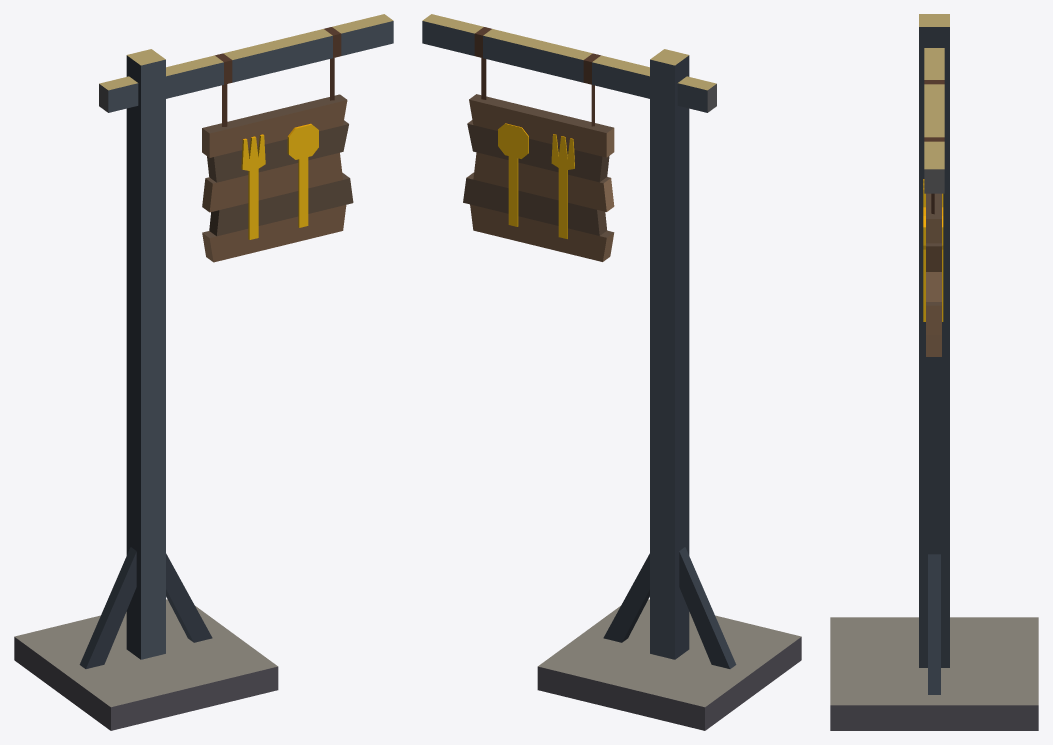
The model's file is TB_D_Prop_Sign_Store_Rest_A.FBX.
3 views of the same model, side by side, from view 1: azimuth 30°, elevation 25°; view 2: azimuth 150°, elevation 25°; view 3: azimuth 270°, elevation 25° (orthographic). The views are drawn at different scales.
Visible parts, largest first — view 1: TB_D_Prop_Sign_Store_Rest_A; view 2: TB_D_Prop_Sign_Store_Rest_A; view 3: TB_D_Prop_Sign_Store_Rest_A.
Part boxes in pixels (left/top/right/bottom): TB_D_Prop_Sign_Store_Rest_A: left=14, top=14, right=393, bottom=730; TB_D_Prop_Sign_Store_Rest_A: left=422, top=14, right=801, bottom=730; TB_D_Prop_Sign_Store_Rest_A: left=830, top=14, right=1038, bottom=730.
Bounding box in the file's own units: 1.57 × 2.84 × 0.8046.
